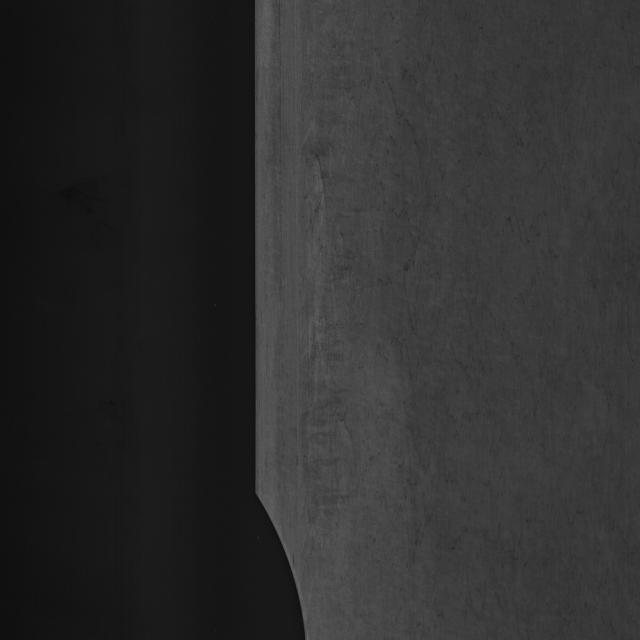silk_spot: (244, 452, 317, 639)
